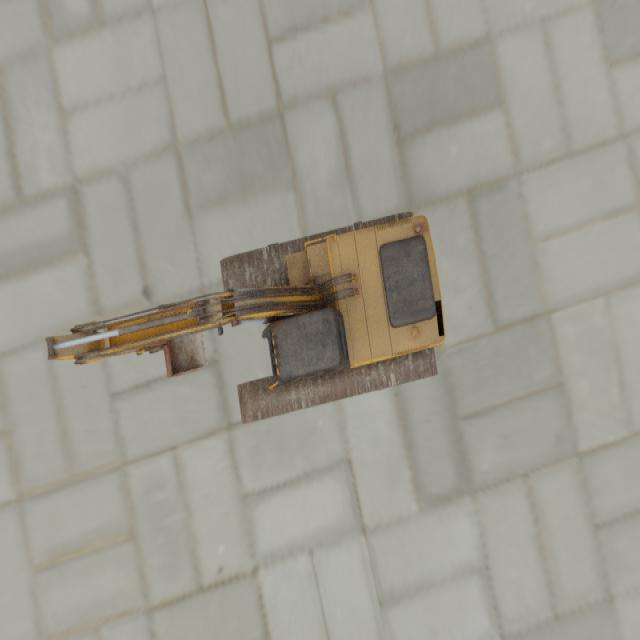excavator: (44, 211, 446, 424)
